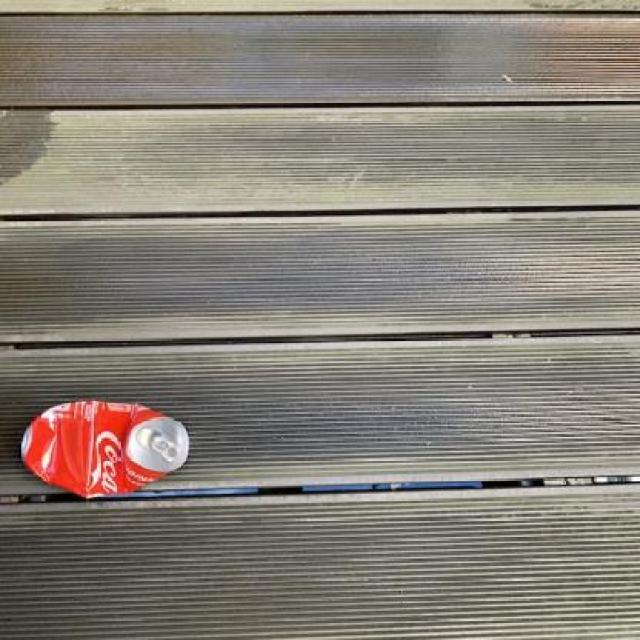trash: (16, 401, 190, 499)
